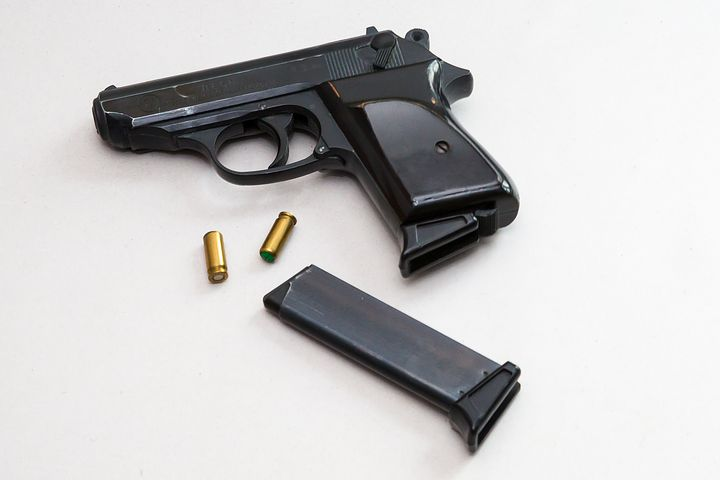gun: (92, 15, 525, 272)
